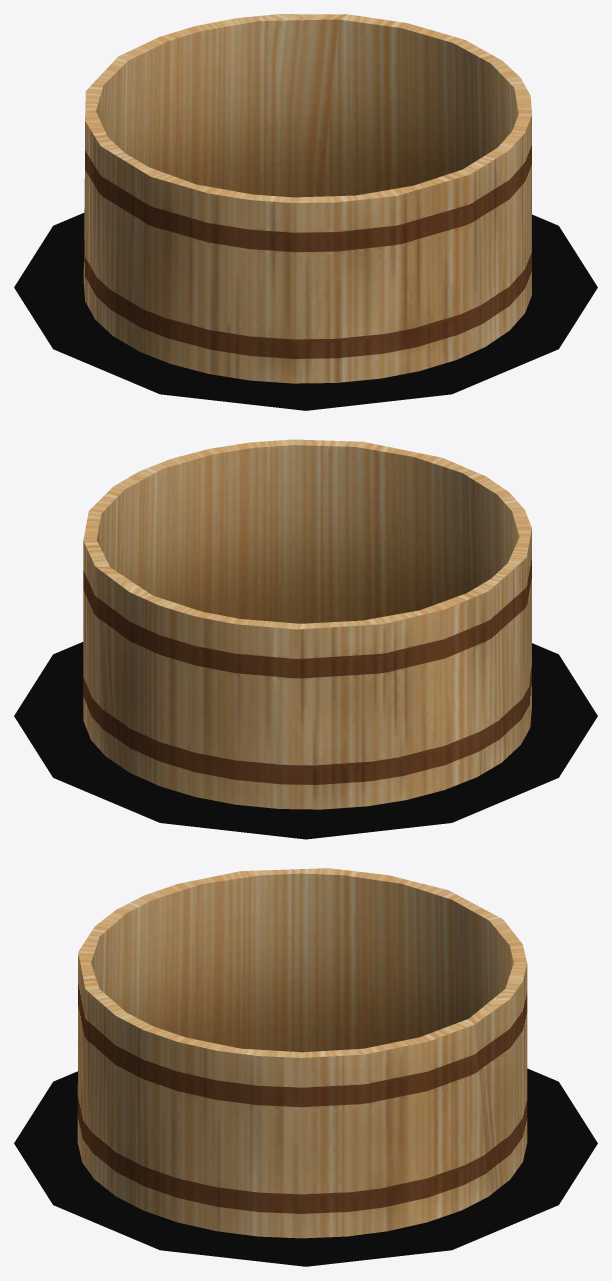
Rendered from jj_rixi_mutong01.FBX.
3 renders of one model, top to bottom at view 1: azimuth 30°, elevation 25°; view 2: azimuth 150°, elevation 25°; view 3: azimuth 270°, elevation 25°, orthographic.
Visible parts, largest first — view 1: jj_rixi_mutong01, shadow; view 2: jj_rixi_mutong01, shadow; view 3: jj_rixi_mutong01, shadow.
Boxes of the visible parts, bbox=[...] form: jj_rixi_mutong01: bbox=[83, 14, 531, 383]; shadow: bbox=[14, 213, 597, 410]; jj_rixi_mutong01: bbox=[83, 439, 531, 809]; shadow: bbox=[14, 642, 597, 839]; jj_rixi_mutong01: bbox=[77, 868, 527, 1238]; shadow: bbox=[14, 1068, 597, 1266].
Bounding box in the file's own units: 66.12 × 23.7 × 66.12.
